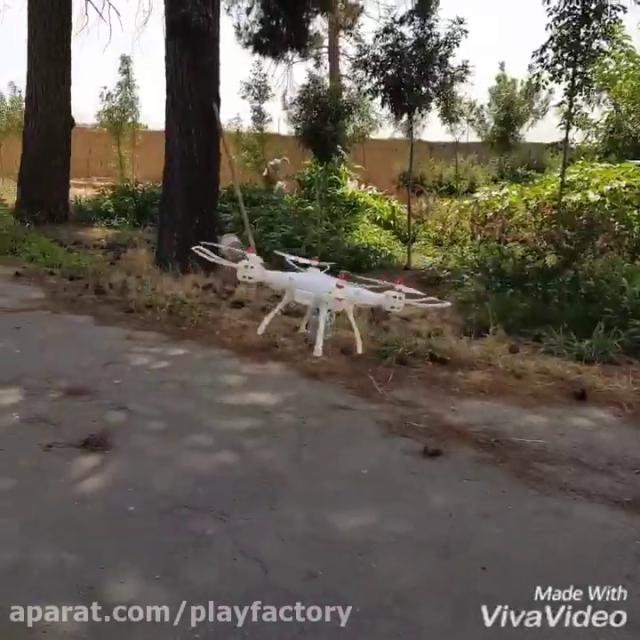drone: (190, 241, 451, 357)
